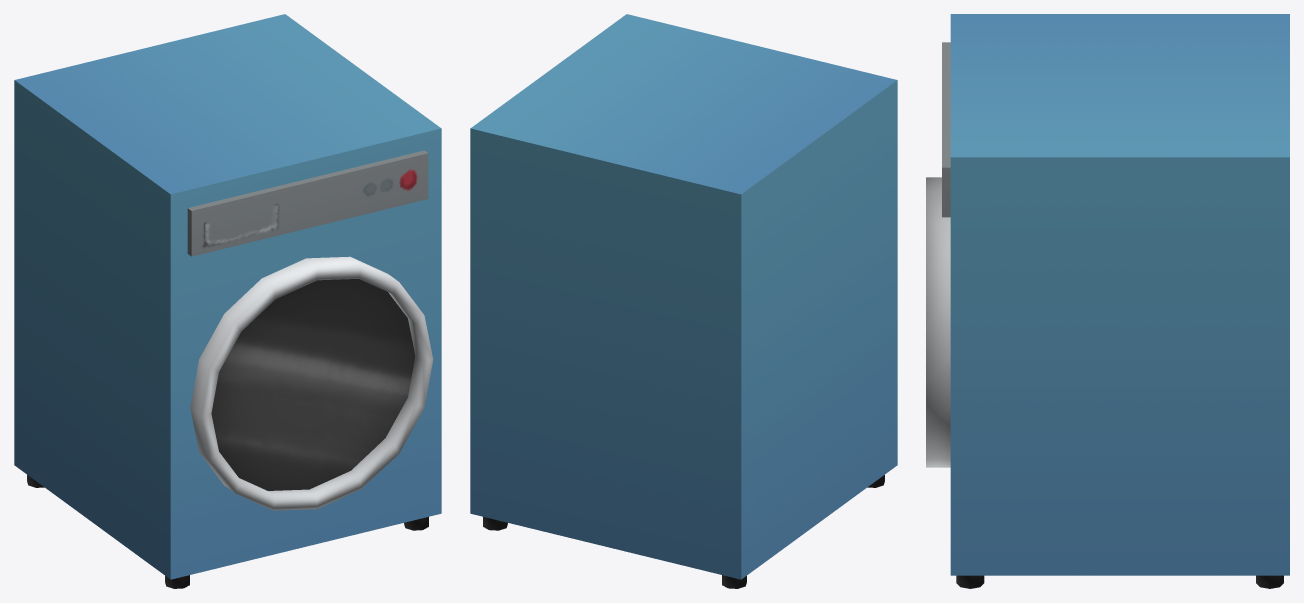
Rendered from treasure_0531.fbx.
The picture shows the model from 3 angles, left to right: view 1: azimuth 30°, elevation 25°; view 2: azimuth 150°, elevation 25°; view 3: azimuth 270°, elevation 25°; orthographic projection. The views are drawn at different scales.
Parts seen in each view (by area): view 1: C_Broken_Washing_Machine; view 2: C_Broken_Washing_Machine; view 3: C_Broken_Washing_Machine.
Boxes of the visible parts, x1=… form: C_Broken_Washing_Machine: x1=14, y1=14, x2=441, y2=588; C_Broken_Washing_Machine: x1=470, y1=14, x2=897, y2=588; C_Broken_Washing_Machine: x1=926, y1=14, x2=1289, y2=588.
Bounding box in the file's own units: 0.7905 × 1.24 × 0.8474.
2 materials, 2 textured.
